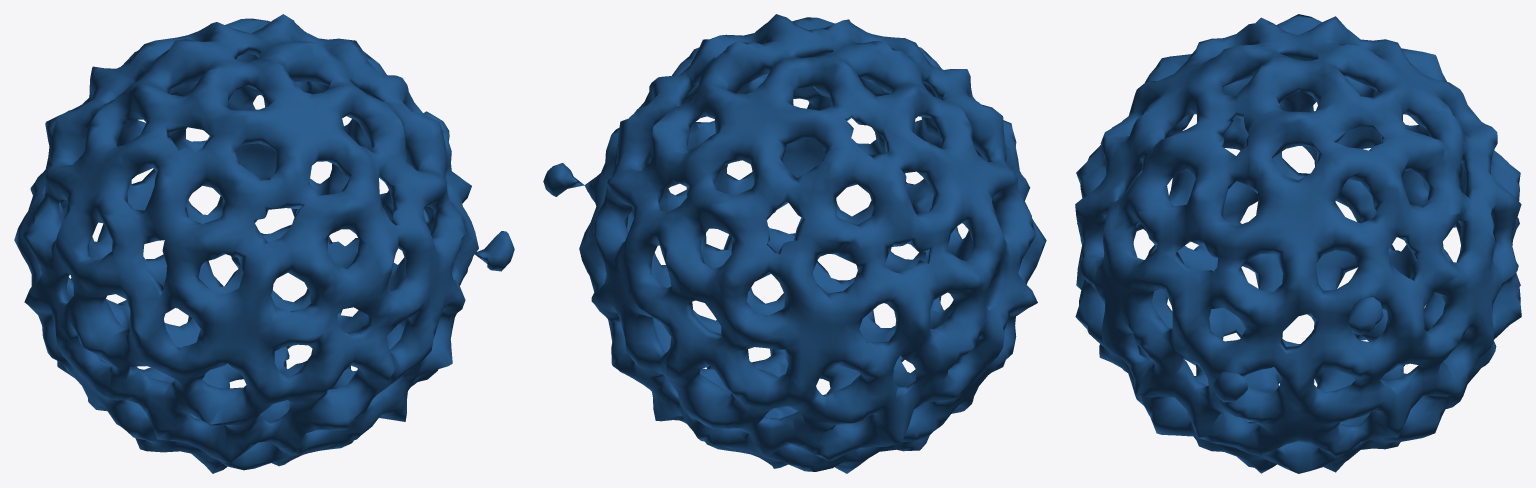
File: 3DPX-015985.glb
The picture shows the model from 3 angles, left to right: view 1: azimuth 30°, elevation 25°; view 2: azimuth 150°, elevation 25°; view 3: azimuth 270°, elevation 25°; orthographic projection.
Parts seen in each view (by area): view 1: surface; view 2: surface; view 3: surface.
Part boxes in pixels (x1=…): surface: x1=14, y1=14, x2=514, y2=473; surface: x1=543, y1=14, x2=1046, y2=473; surface: x1=1075, y1=14, x2=1521, y2=473.
Bounding box in the file's own units: 332 × 302 × 302.
